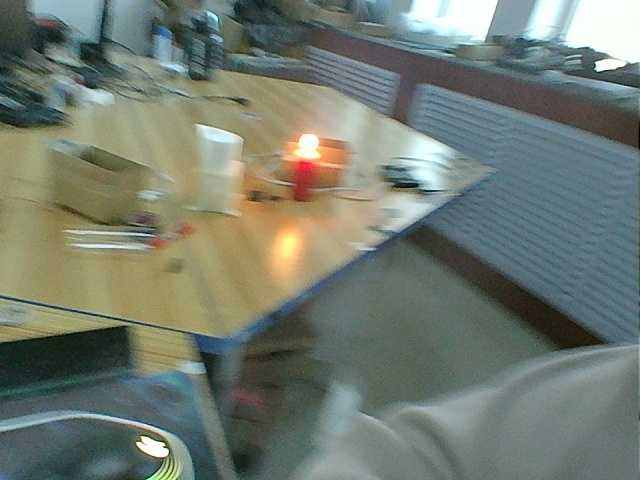candle: (289, 158, 320, 202)
fire: (293, 131, 327, 158)
